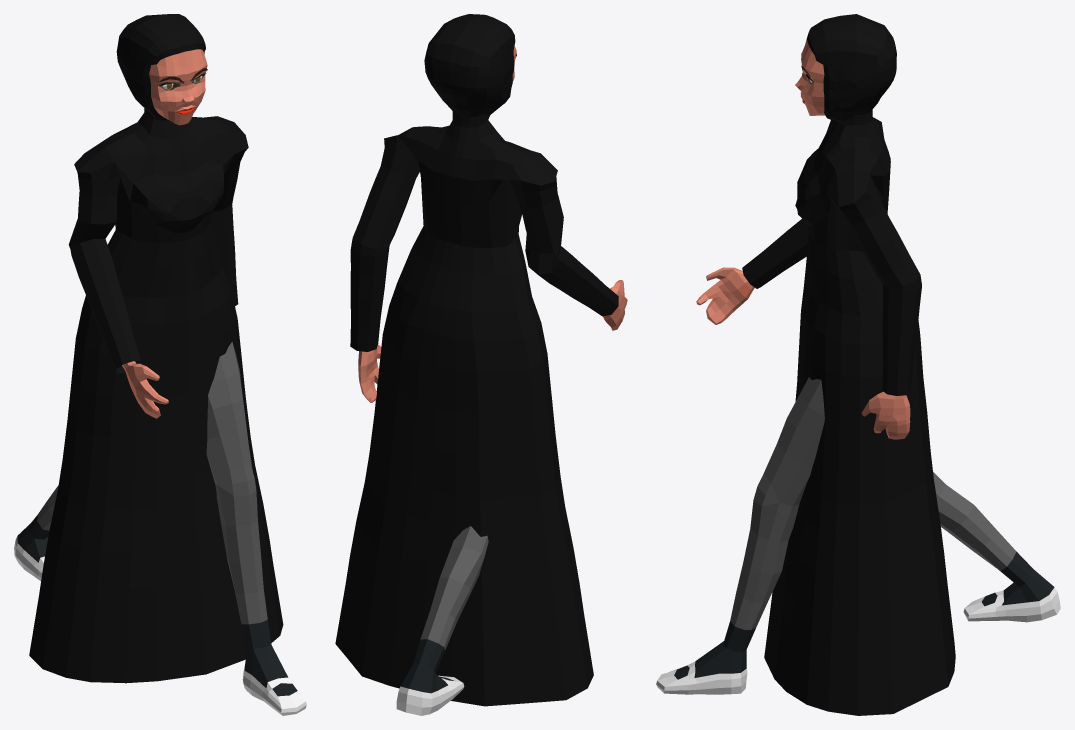
File: TeacherFemale_Walk.fbx
3 renders of one model, left to right at view 1: azimuth 30°, elevation 25°; view 2: azimuth 150°, elevation 25°; view 3: azimuth 270°, elevation 25°, orthographic.
Parts seen in each view (by area): view 1: TeacherFemale_Walk; view 2: TeacherFemale_Walk; view 3: TeacherFemale_Walk.
Part boxes in pixels (x1,y1,x2,y2): TeacherFemale_Walk: [14, 14, 306, 715]; TeacherFemale_Walk: [335, 14, 627, 715]; TeacherFemale_Walk: [656, 14, 1060, 715].
Size of the model in its own units: 0.3457 by 0.8973 by 0.5063.
